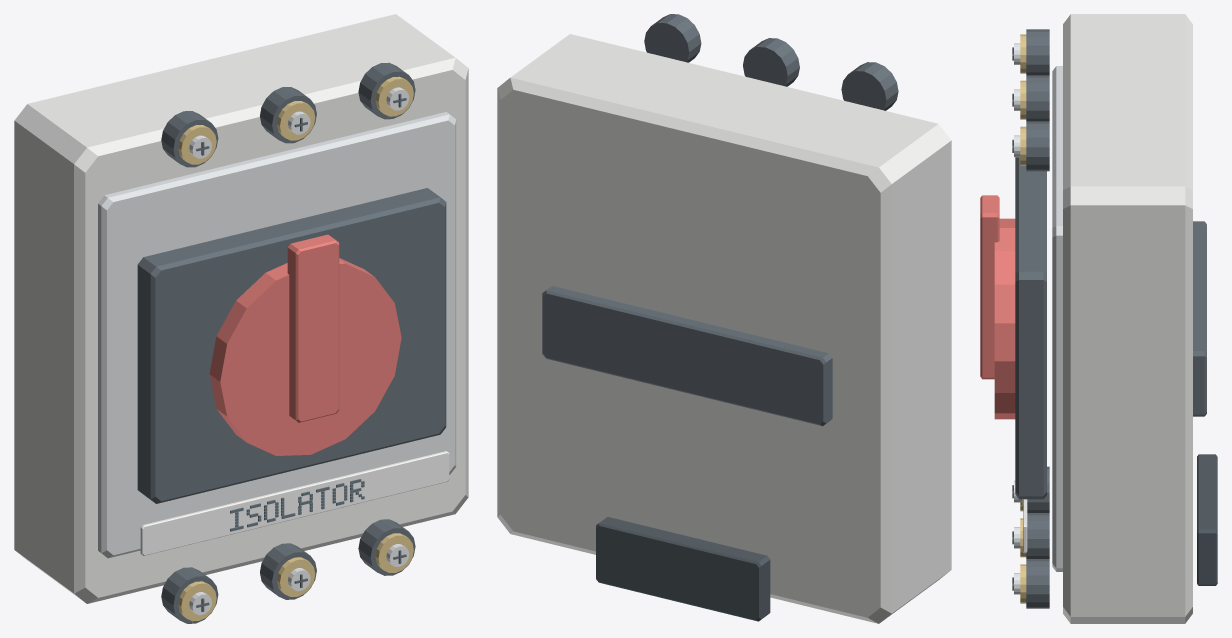
The model's file is isolator3P.glb.
3 renders of one model, left to right at view 1: azimuth 30°, elevation 25°; view 2: azimuth 150°, elevation 25°; view 3: azimuth 270°, elevation 25°, orthographic. The views are drawn at different scales.
Parts seen in each view (by area): view 1: isolator3P-preview; view 2: isolator3P-preview; view 3: isolator3P-preview.
Boxes of the visible parts, x1=… form: isolator3P-preview: x1=14, y1=14, x2=468, y2=623; isolator3P-preview: x1=497, y1=14, x2=951, y2=623; isolator3P-preview: x1=980, y1=14, x2=1217, y2=623.
Bounding box in the file's own units: 2.75 × 3.36 × 1.49.
